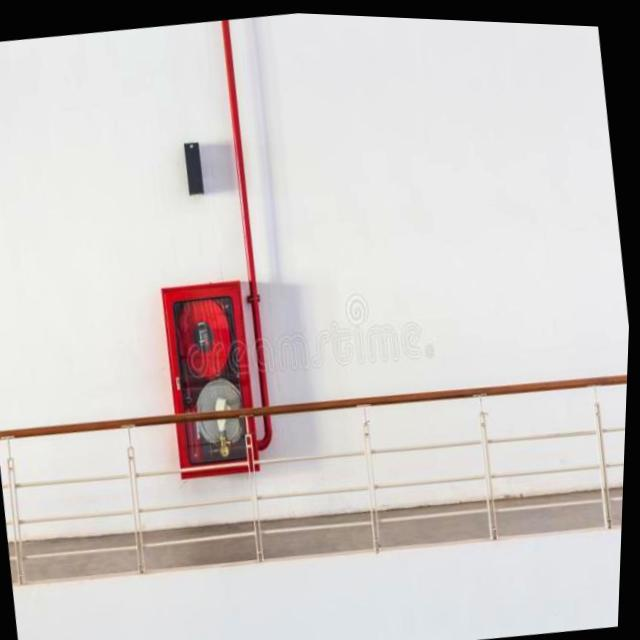FireExtinguisher: (177, 380, 215, 470)
